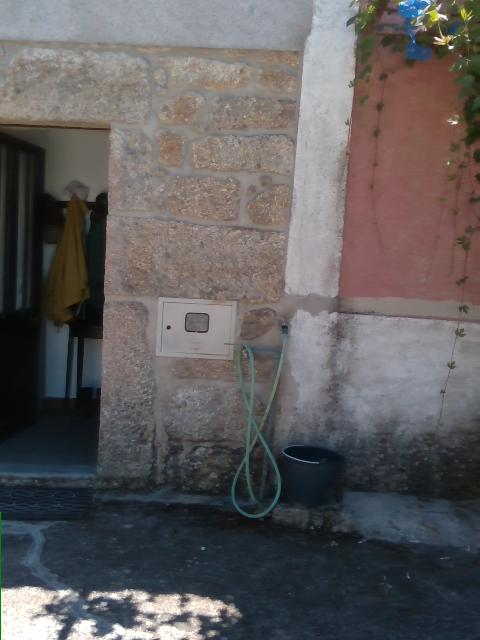door: (1, 132, 44, 445)
